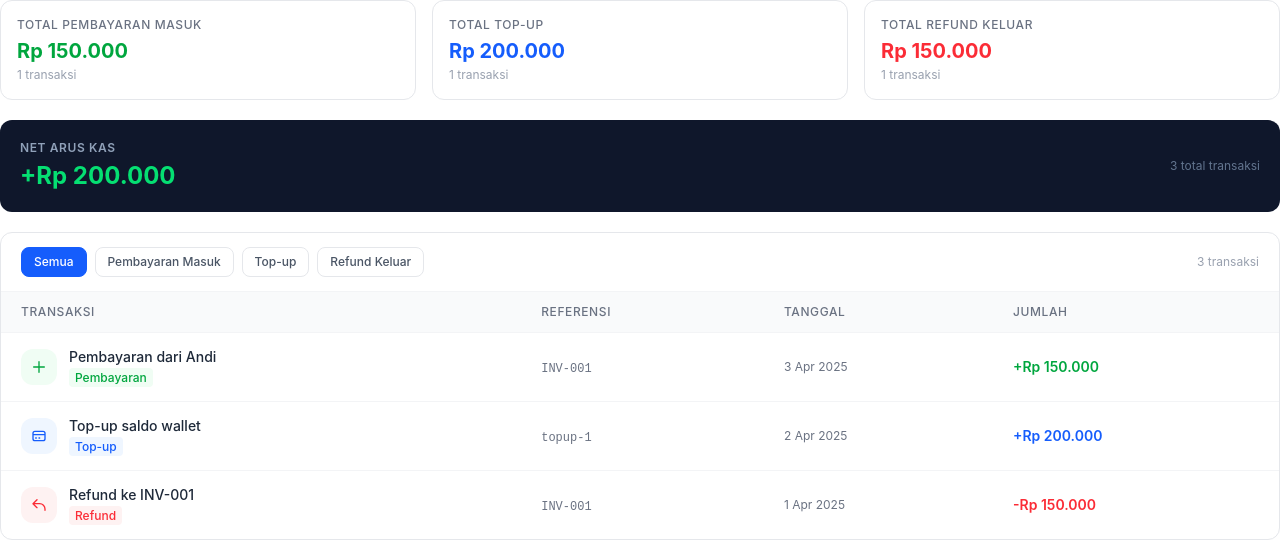
Test case: TransactionHistoryPage › filters to show only PAYMENT_IN when clicked
Click the button "Pembayaran Masuk" at (164, 262), box [94,247,234,277]
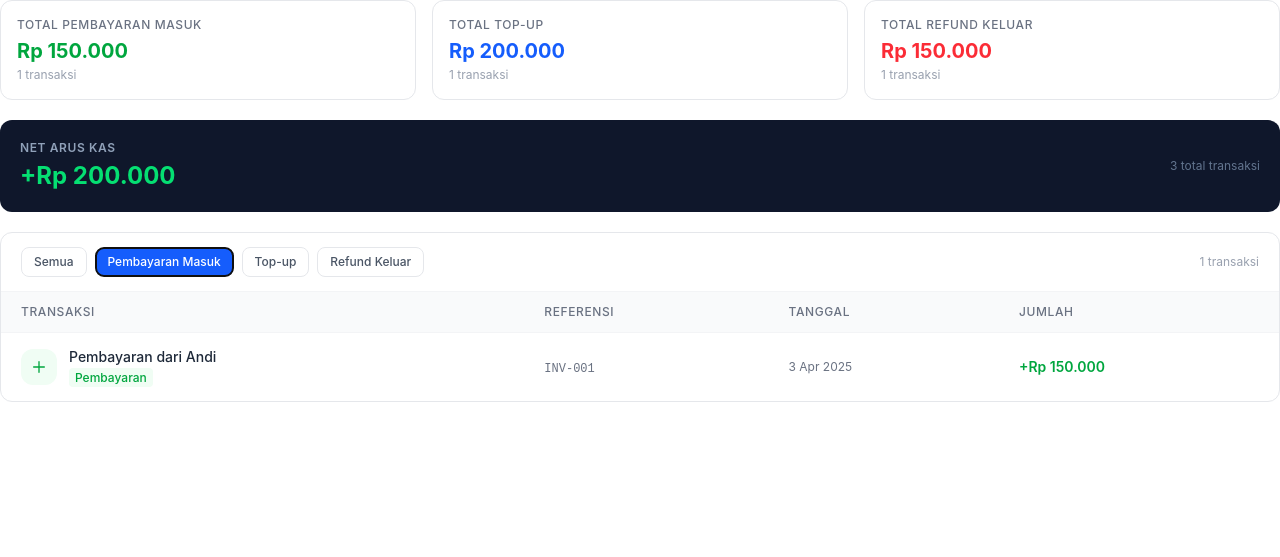
Expected: the text "Pembayaran dari Andi" is shown, [69,347,216,367]
Expected: the text "Top-up saldo wallet" is gone
Expected: the text "Refund ke INV-001" is gone
